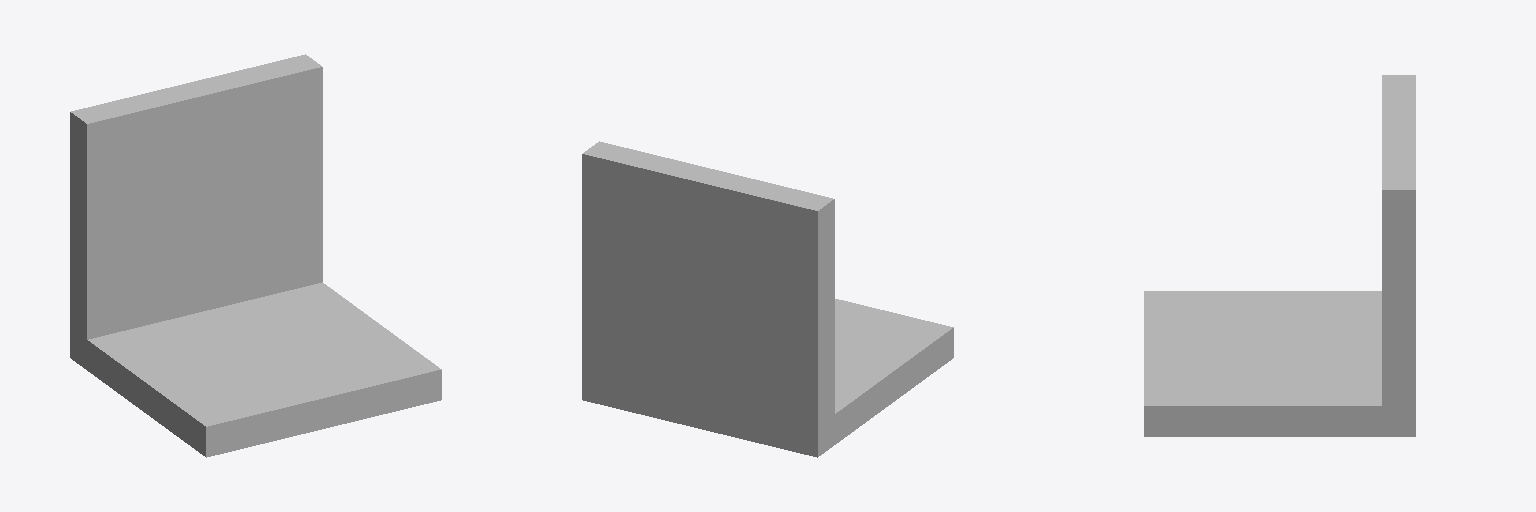
The model's file is BigEdge.obj.
The picture shows the model from 3 angles: view 1: azimuth 30°, elevation 25°; view 2: azimuth 150°, elevation 25°; view 3: azimuth 270°, elevation 25°; orthographic projection.
Visible parts, largest first — view 1: BigEdge_Cube.011; view 2: BigEdge_Cube.011; view 3: BigEdge_Cube.011.
Part boxes in pixels (x1,y1,x2,y2): BigEdge_Cube.011: (70, 54, 441, 457); BigEdge_Cube.011: (582, 141, 953, 457); BigEdge_Cube.011: (1144, 75, 1415, 436).
Bounding box in the file's own units: 2 × 2 × 2.